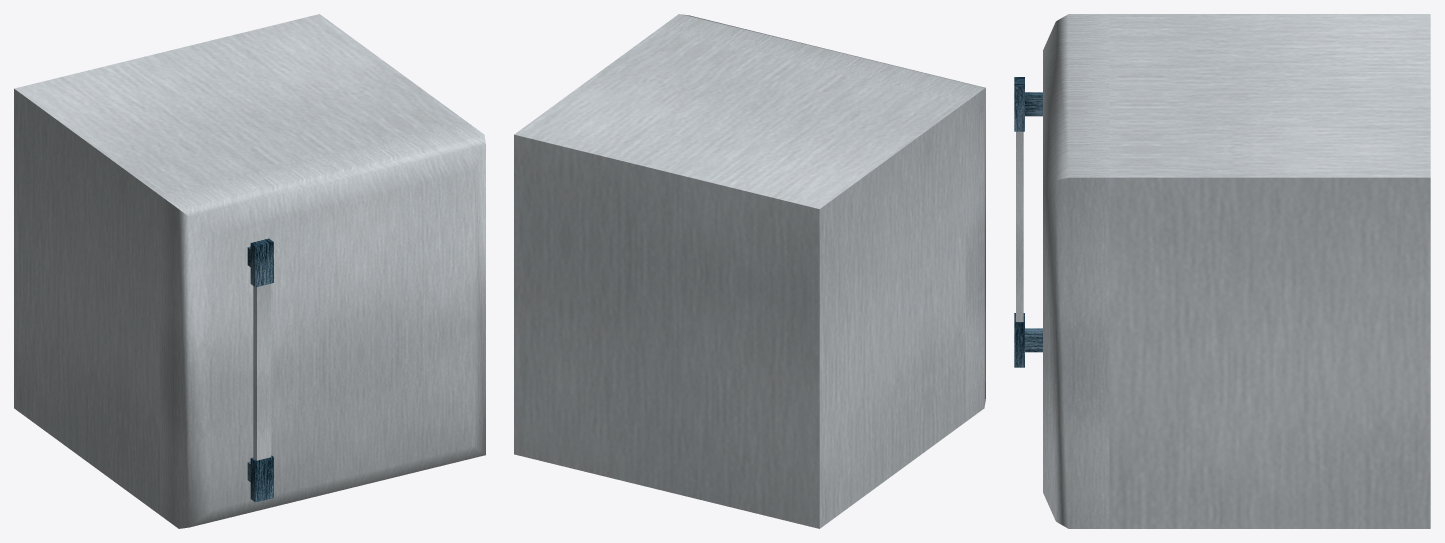
File: Nevera_S.fbx
The picture shows the model from 3 angles, left to right: view 1: azimuth 30°, elevation 25°; view 2: azimuth 150°, elevation 25°; view 3: azimuth 270°, elevation 25°; orthographic projection. The views are drawn at different scales.
Parts seen in each view (by area): view 1: Nevera_S_Puerta, Nevera_S, Nevera_S_Tirador; view 2: Nevera_S, Nevera_S_Puerta; view 3: Nevera_S, Nevera_S_Puerta, Nevera_S_Tirador.
Boxes of the visible parts, x1,y1,x2,y2 form: Nevera_S_Puerta: [160, 121, 485, 528]; Nevera_S: [14, 14, 465, 514]; Nevera_S_Tirador: [247, 238, 273, 502]; Nevera_S: [514, 27, 965, 528]; Nevera_S_Puerta: [660, 14, 985, 421]; Nevera_S: [1109, 14, 1430, 528]; Nevera_S_Puerta: [1043, 14, 1109, 528]; Nevera_S_Tirador: [1014, 77, 1042, 367].
Size of the model in its own units: 10 by 10 by 10.74.
